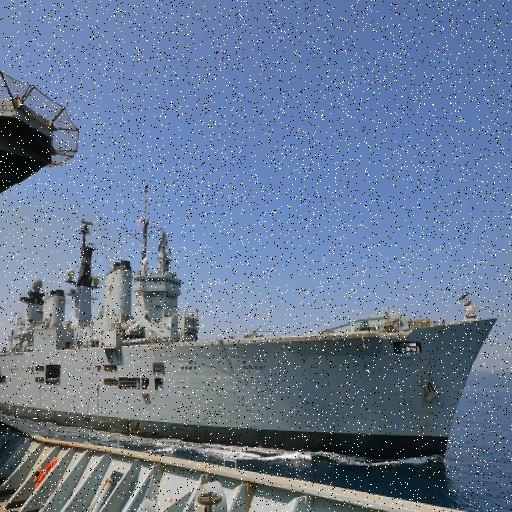Portanaves: (1, 176, 501, 482)
